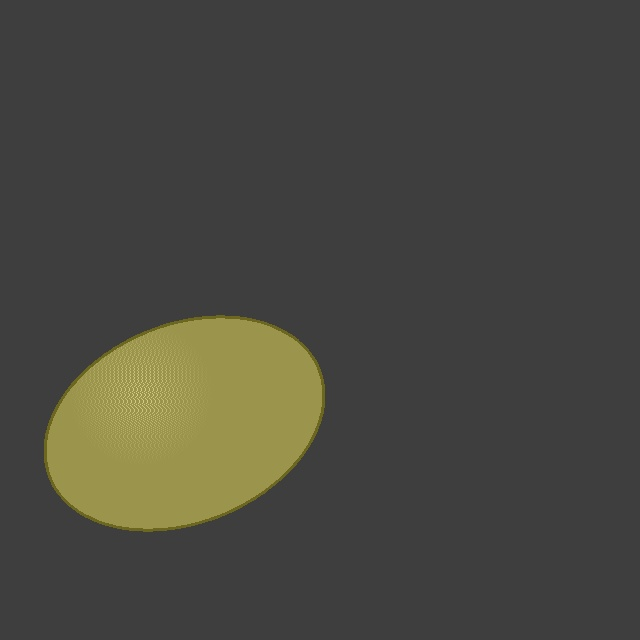lens: (45, 316, 323, 530)
